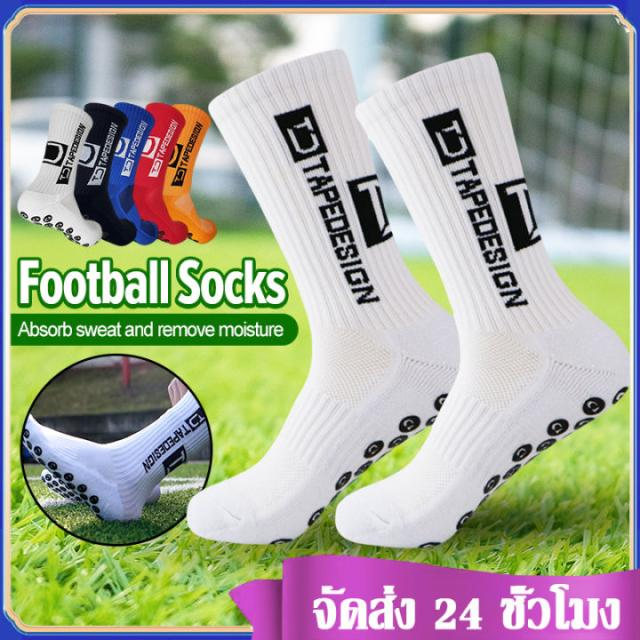sock: (333, 51, 630, 548), (185, 47, 461, 545)
